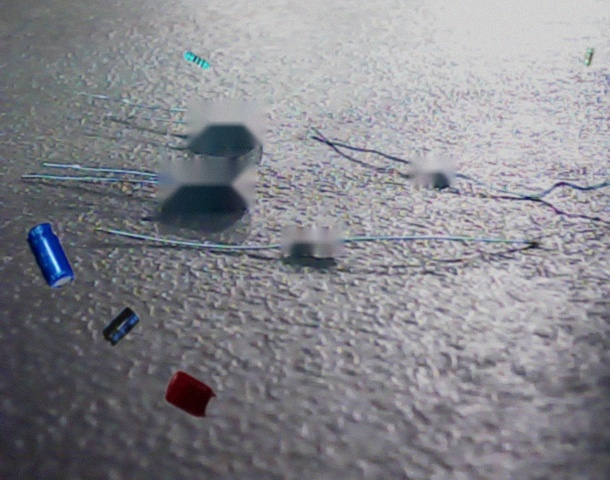capacitor: (27, 222, 75, 289), (165, 370, 217, 419), (102, 306, 140, 347)
resistor: (183, 50, 212, 73), (583, 47, 595, 67)
